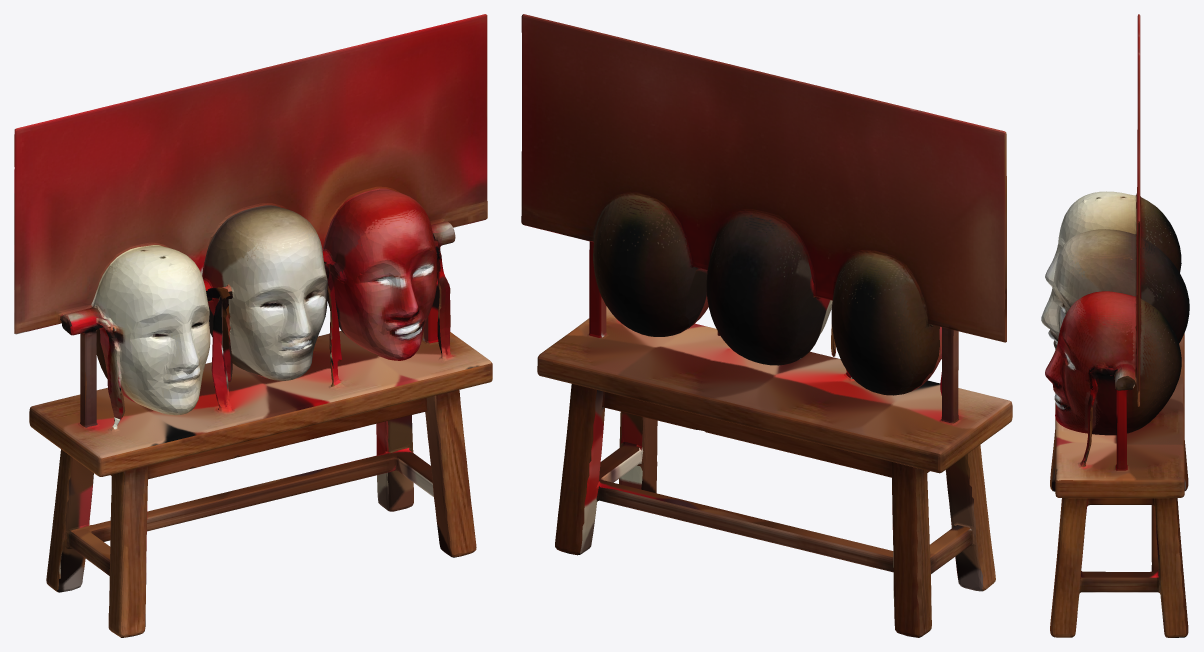
Rendered from traveler_env_coast_castle_bayushi_mask_stand_00001_.glb.
The picture shows the model from 3 angles, left to right: view 1: azimuth 30°, elevation 25°; view 2: azimuth 150°, elevation 25°; view 3: azimuth 270°, elevation 25°; orthographic projection. The views are drawn at different scales.
Visible parts, largest first — view 1: temp_mesh.ply; view 2: temp_mesh.ply; view 3: temp_mesh.ply.
Boxes of the visible parts, x1=… form: temp_mesh.ply: x1=14, y1=14, x2=492, y2=637; temp_mesh.ply: x1=521, y1=14, x2=1012, y2=637; temp_mesh.ply: x1=1041, y1=14, x2=1189, y2=637.
Bounding box in the file's own units: 1.97 × 1.96 × 0.5934.
1 material, 1 textured.
